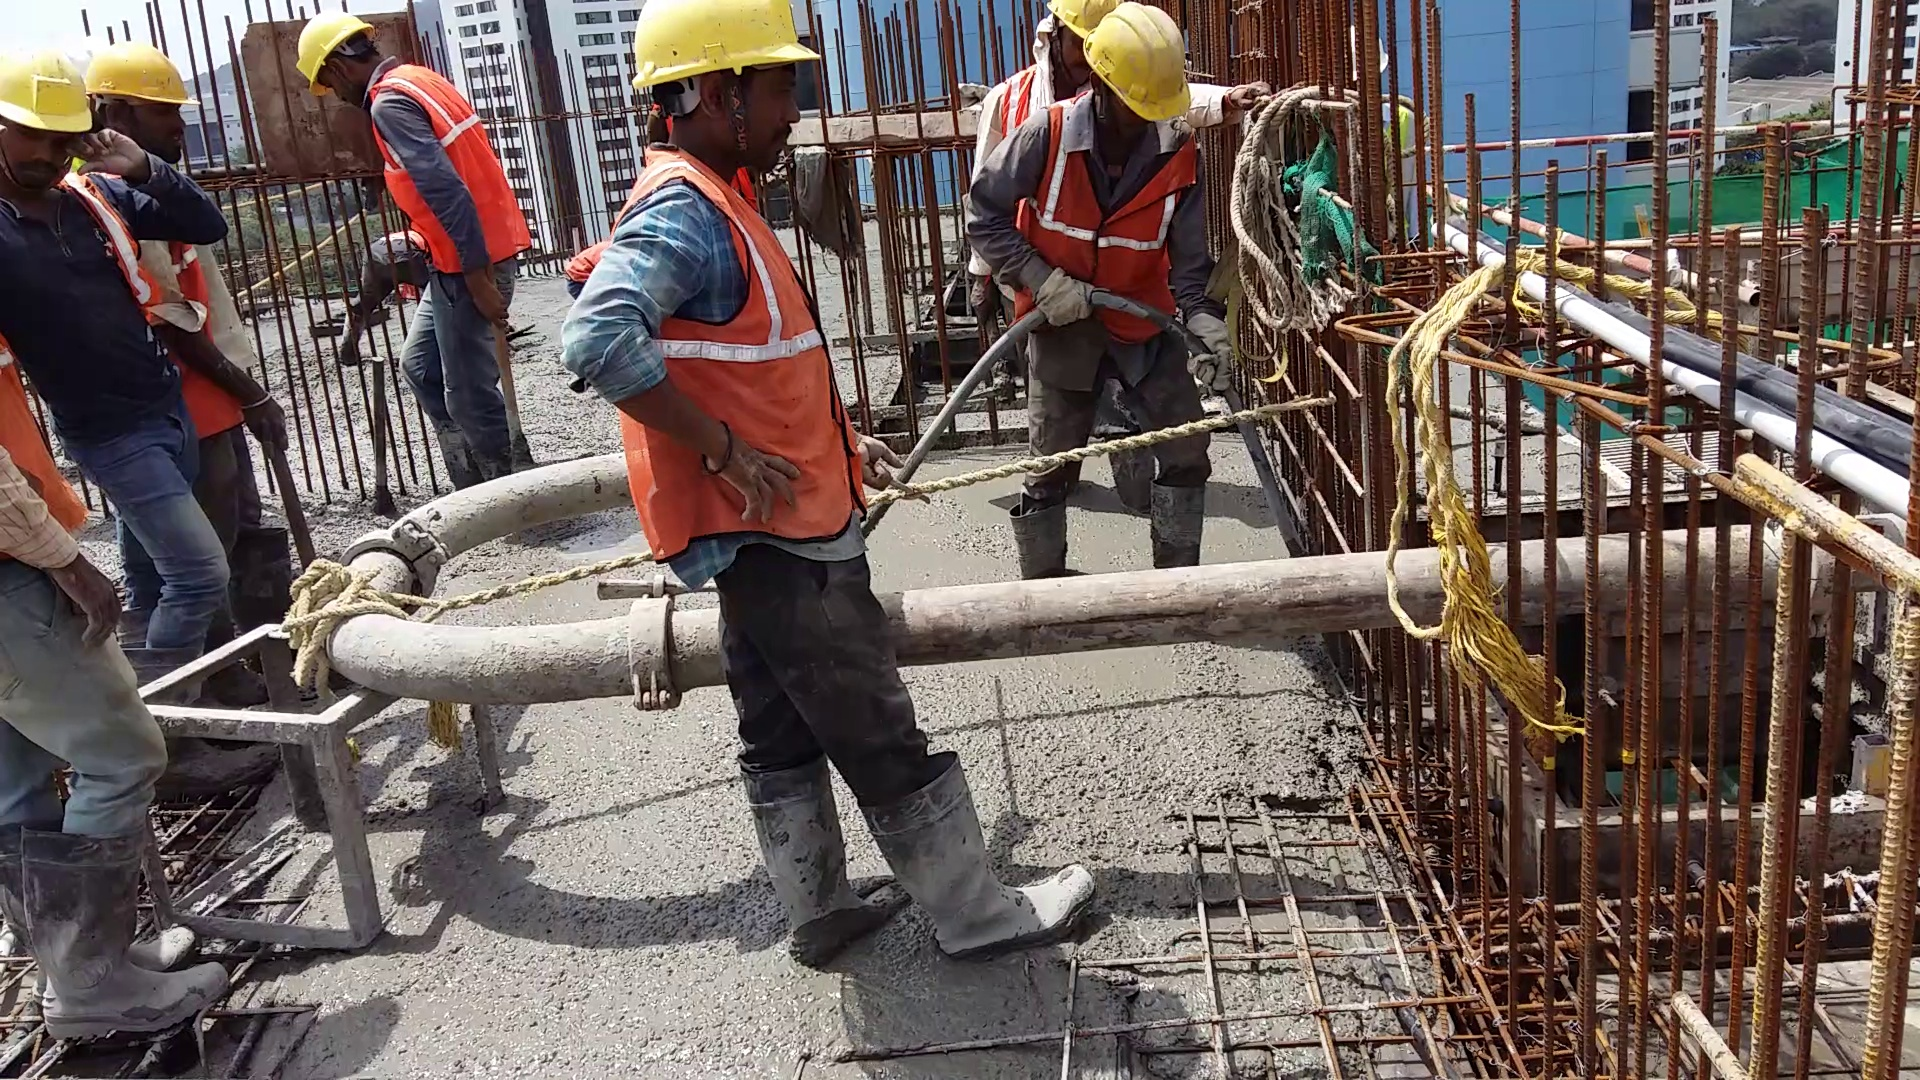NoJacket: (1, 44, 91, 469)
SAFE: (618, 7, 844, 542), (293, 12, 520, 276), (1033, 5, 1184, 338)
